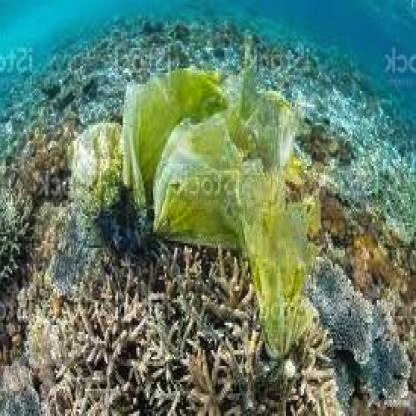pbag: (69, 36, 324, 360)
